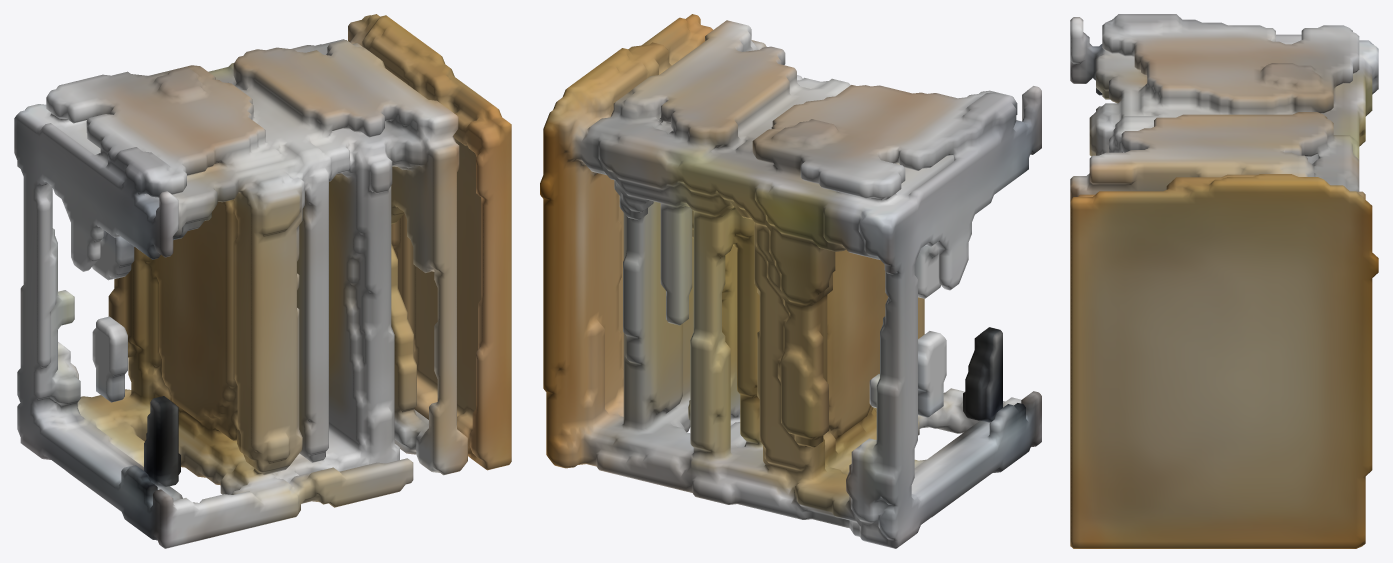
File: A double-leveled computer table with a metallic fr.glb
3 views of the same model, side by side, from view 1: azimuth 30°, elevation 25°; view 2: azimuth 150°, elevation 25°; view 3: azimuth 270°, elevation 25° (orthographic).
Parts seen in each view (by area): view 1: A double-leveled computer table with a metallic fr; view 2: A double-leveled computer table with a metallic fr; view 3: A double-leveled computer table with a metallic fr.
Boxes of the visible parts, box(x1,y1,x2,y2) form: A double-leveled computer table with a metallic fr: box(14, 14, 511, 548); A double-leveled computer table with a metallic fr: box(540, 14, 1041, 548); A double-leveled computer table with a metallic fr: box(1070, 14, 1378, 548).
Size of the model in its own units: 64 by 63 by 48.
